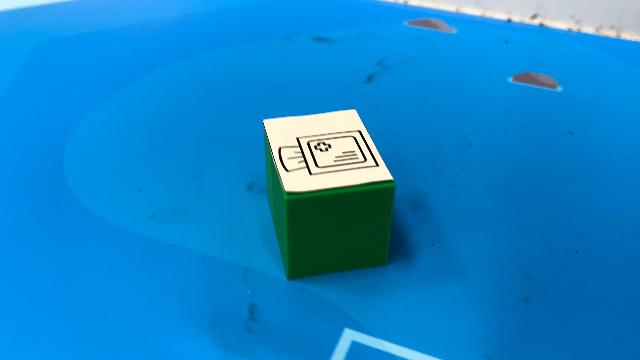napkin: (260, 107, 398, 281)
